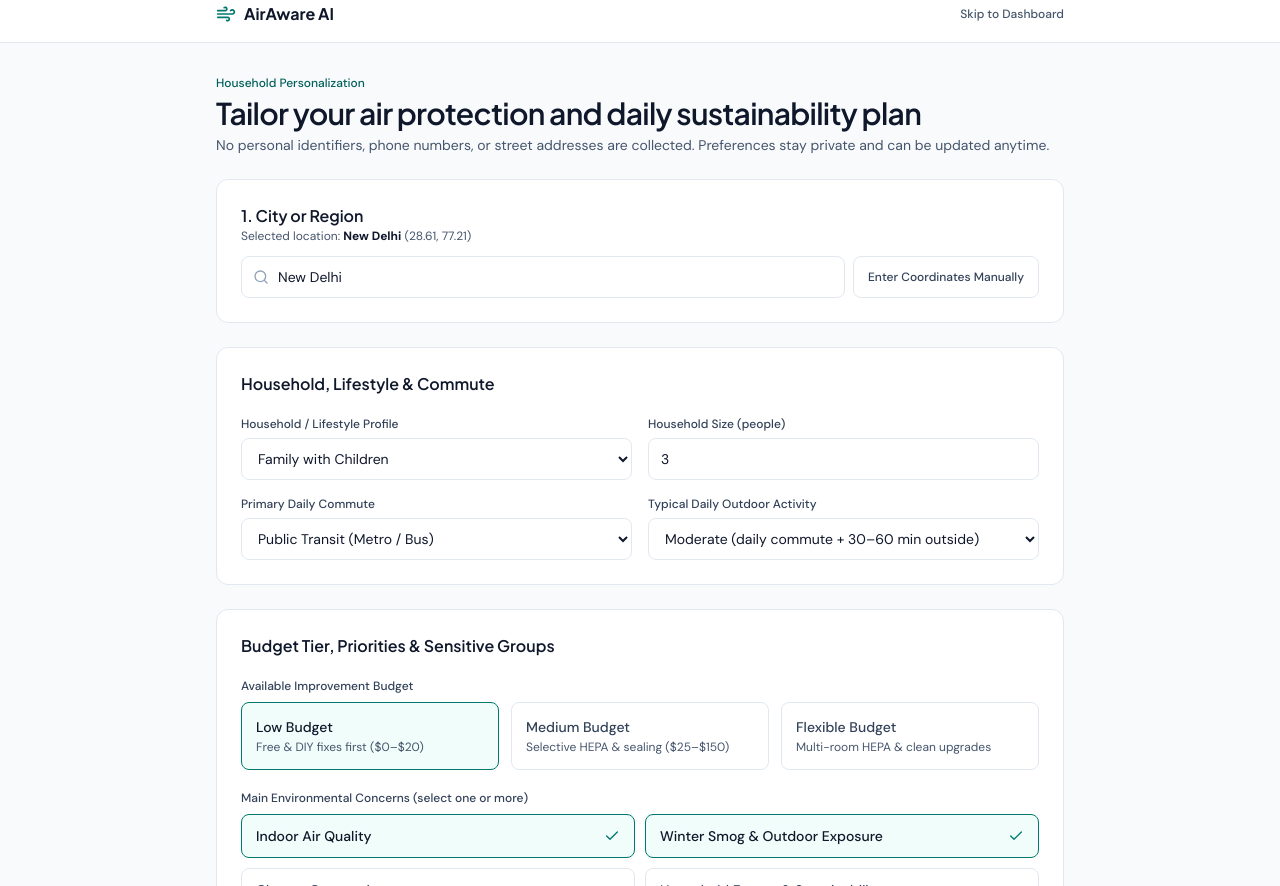
Test: End-to-End User Journey & Keyboard Accessibility › completes onboarding personalization, navigates to Dashboard, and supports Escape on mobile menu
Later steps or results of the test are not shown.
Replace the text in the number field labelled "Household Size (people)" with "5" at (844, 459), box [648,438,1039,480]
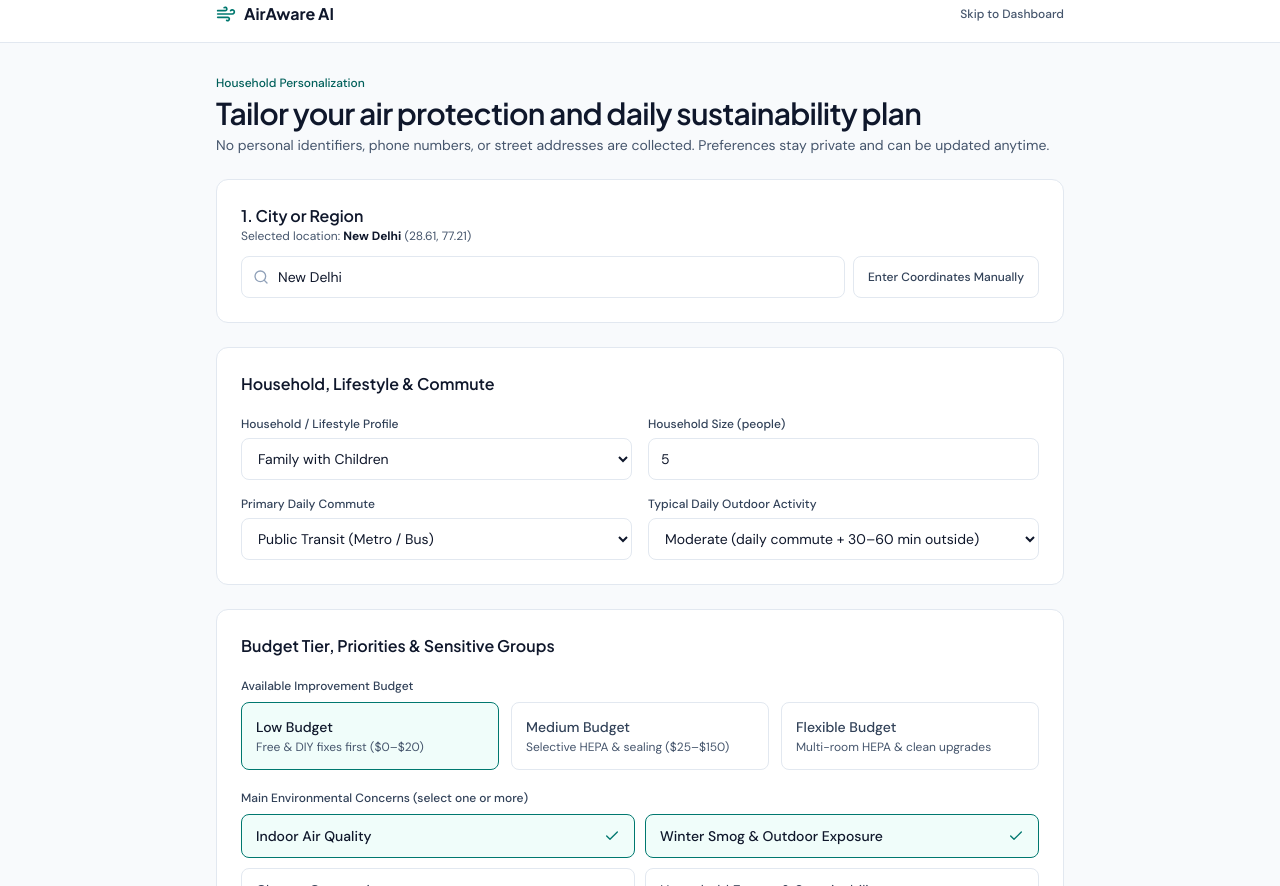
Click the radio button labelled "Medium Budget Selective HEPA & sealing ($25–$150)" at (640, 736), box [511,702,769,770]
(page scrolled)
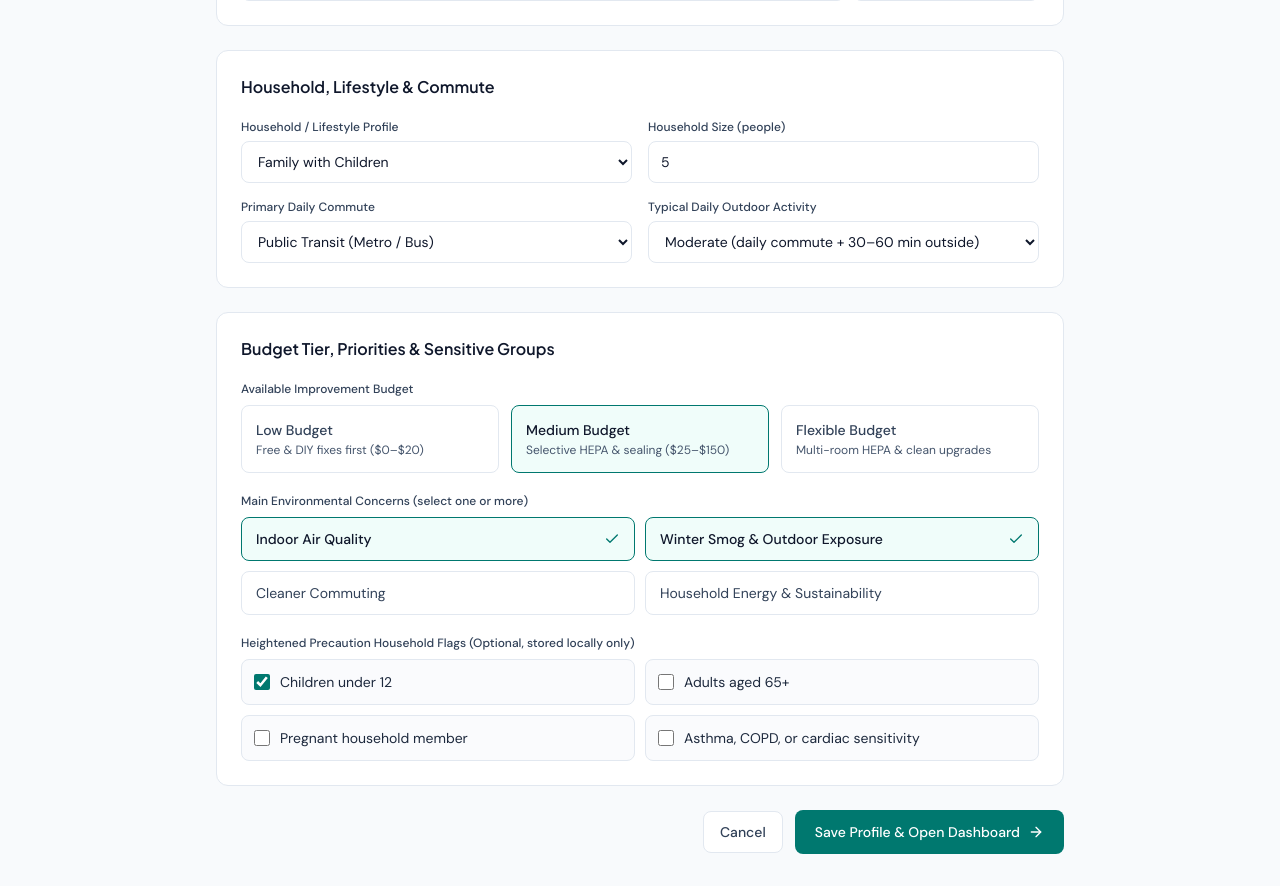
Click the button "Save Profile & Open Dashboard" at (929, 832), box [795,810,1064,854]
(page scrolled)
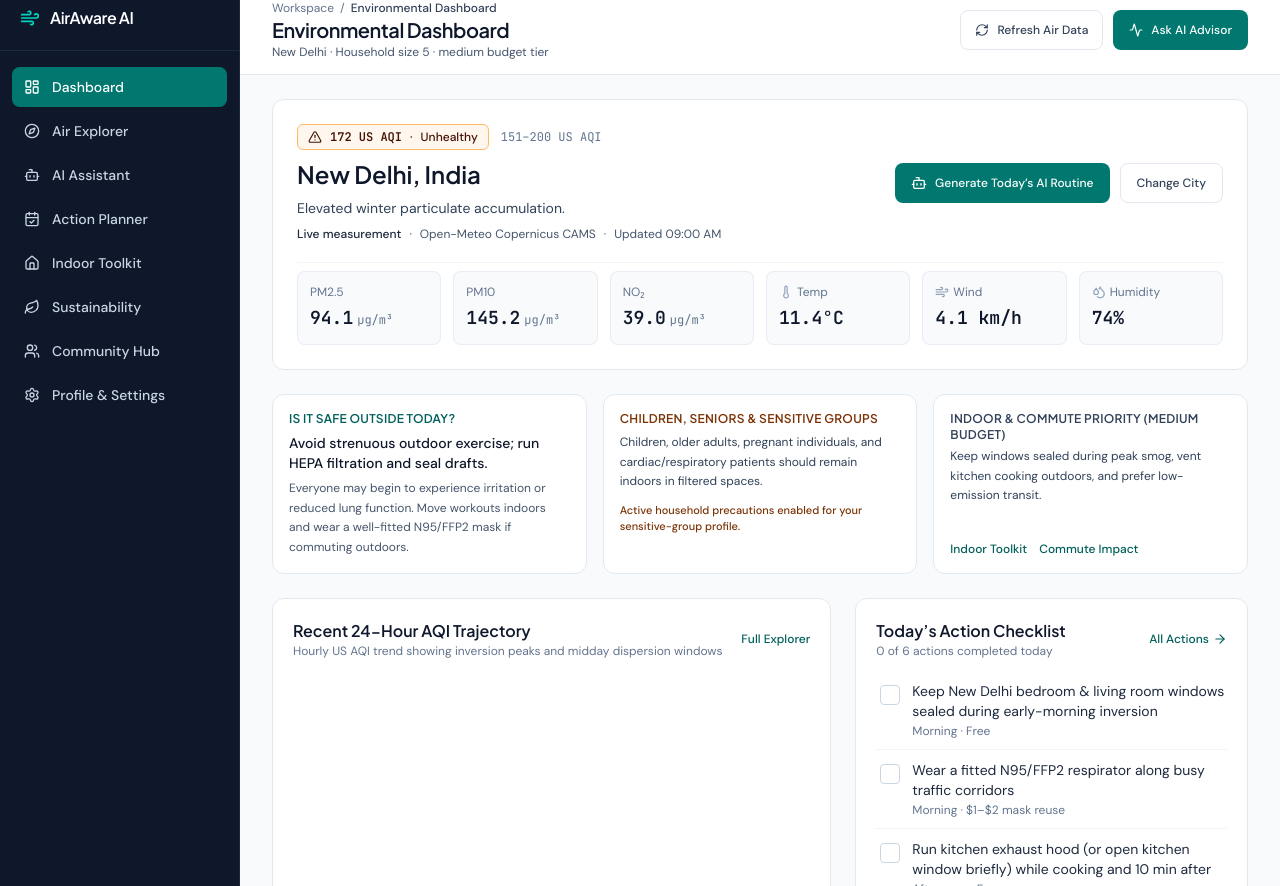
Now the heading "Environmental Dashboard" is shown, box [272,16,549,44]
Now the text "New Delhi · Household size 5 · medium budget tier" is shown, box [272,44,549,60]
